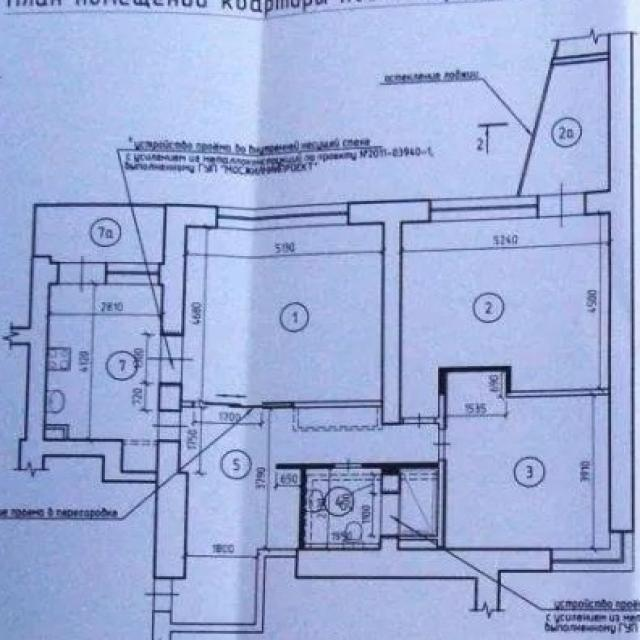Bathrooms: (309, 472, 379, 546)
Corridors: (173, 409, 435, 622), (523, 62, 608, 195), (35, 206, 163, 262), (402, 470, 436, 539)
Doors: (538, 179, 585, 230), (144, 338, 195, 383), (59, 254, 104, 294), (142, 579, 182, 612), (150, 412, 188, 440), (202, 399, 293, 409), (381, 493, 399, 538), (430, 430, 453, 460), (403, 410, 435, 430), (333, 455, 361, 477)
LBwalls: (9, 254, 123, 474), (608, 32, 635, 532), (295, 547, 552, 580), (157, 204, 217, 338), (154, 439, 190, 579), (347, 198, 430, 225), (157, 383, 182, 411), (151, 610, 172, 640), (585, 192, 609, 214), (382, 474, 400, 493), (381, 536, 398, 547)
Offices: (403, 216, 608, 414), (183, 227, 381, 398), (447, 375, 610, 547), (47, 287, 159, 472)
Walls: (514, 51, 609, 199), (431, 365, 608, 431), (172, 547, 298, 635), (361, 459, 448, 548), (275, 463, 334, 548), (382, 224, 402, 426), (475, 579, 502, 614), (104, 472, 154, 483), (293, 401, 381, 407), (183, 401, 202, 409)
Windows: (216, 202, 347, 232), (553, 534, 635, 572), (430, 196, 538, 223), (105, 262, 159, 285)
